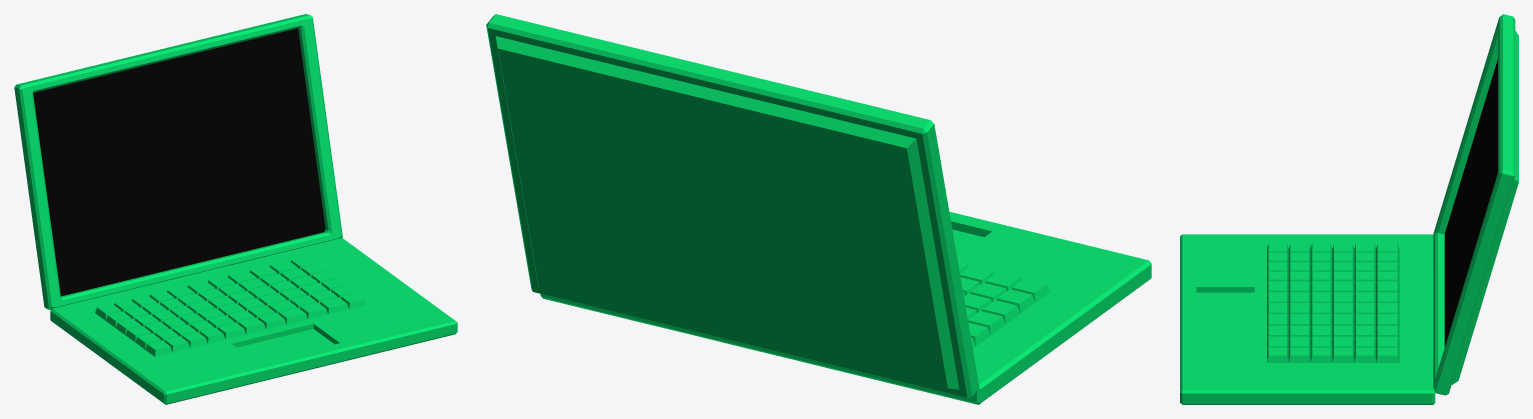
The model's file is Laptop.fbx.
3 renders of one model, left to right at view 1: azimuth 30°, elevation 25°; view 2: azimuth 150°, elevation 25°; view 3: azimuth 270°, elevation 25°, orthographic. The views are drawn at different scales.
Visible parts, largest first — view 1: Laptop; view 2: Laptop; view 3: Laptop.
Boxes of the visible parts, <box> form: Laptop: <box>14,14,457,404</box>; Laptop: <box>486,14,1151,404</box>; Laptop: <box>1180,14,1518,404</box>.
Size of the model in its own units: 43.27 by 29.97 by 39.17.
